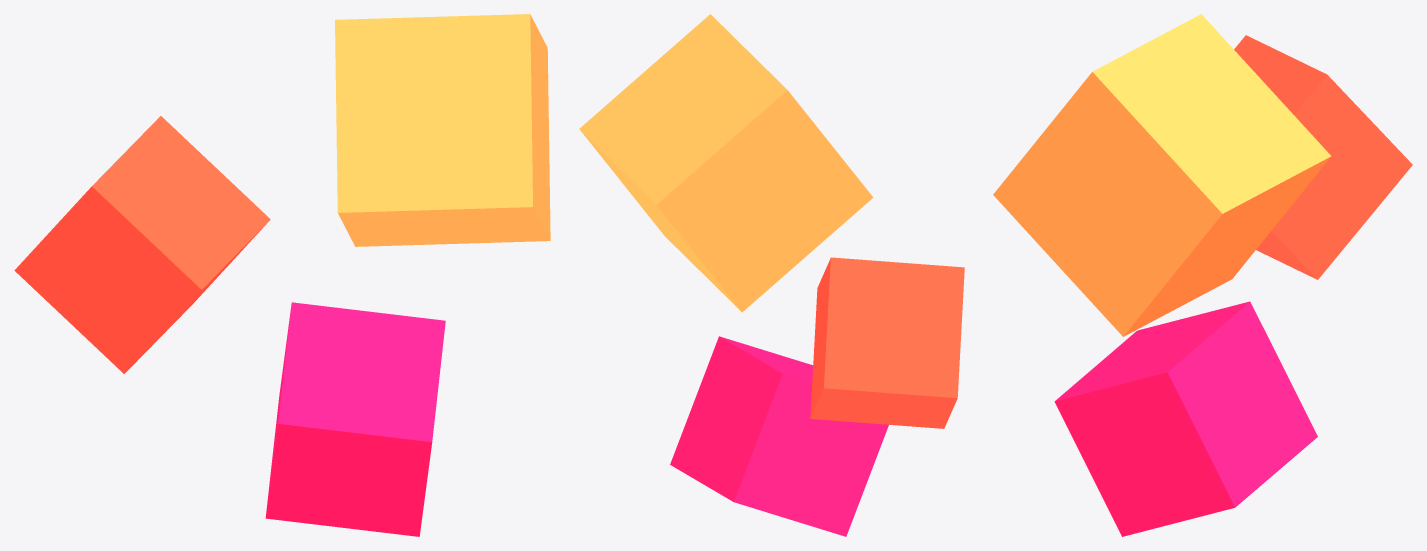
File: cubes.glb
3 views of the same model, side by side, from view 1: azimuth 30°, elevation 25°; view 2: azimuth 150°, elevation 25°; view 3: azimuth 270°, elevation 25° (orthographic). The views are drawn at different scales.
Visible parts, largest first — view 1: Floating.2, Floating.3, Floating.1; view 2: Floating.2, Floating.3, Floating.1; view 3: Floating.2, Floating.3, Floating.1.
Boxes of the visible parts, bbox=[...] form: Floating.2: bbox=[335, 14, 550, 246]; Floating.3: bbox=[265, 302, 445, 536]; Floating.1: bbox=[14, 116, 270, 373]; Floating.2: bbox=[579, 14, 873, 312]; Floating.3: bbox=[670, 336, 888, 536]; Floating.1: bbox=[810, 257, 964, 428]; Floating.2: bbox=[993, 14, 1331, 336]; Floating.3: bbox=[1054, 301, 1317, 536]; Floating.1: bbox=[1234, 35, 1412, 279].
Bounding box in the file's own units: 2.94 × 2.99 × 2.22.
